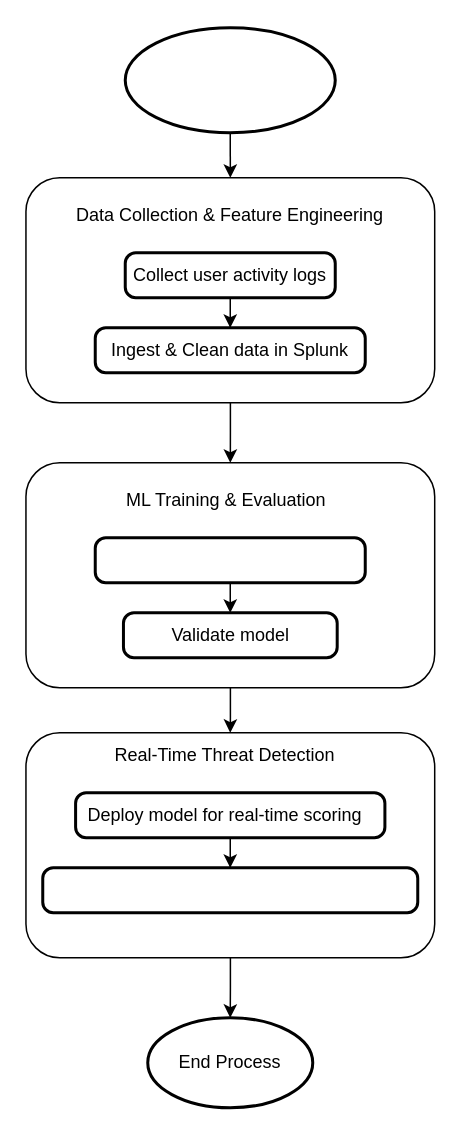
Image size: 462x1134. Some labels were removed from this diagram. Here are the shapes that lost their labels. From the top down, the centre of each, then its label:
At point 229,80: "Start".
At point 229,560: "Train model with Splunk MLTK".
At point 229,890: "Monitor and Detect Behavioral Drifts".
